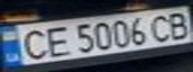0: (90, 19, 115, 51), (112, 17, 133, 48)
5: (72, 20, 96, 54)
6: (127, 15, 154, 46)
B: (163, 9, 193, 40)
C: (15, 26, 51, 61), (145, 11, 178, 43)
E: (39, 24, 72, 57)
